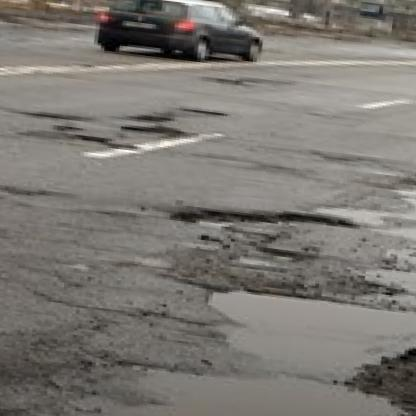pothole: (172, 197, 360, 247), (120, 119, 191, 139), (251, 243, 311, 262), (21, 107, 92, 123), (175, 105, 239, 120), (133, 109, 171, 125), (70, 131, 112, 145), (103, 140, 137, 151), (57, 121, 80, 133)
